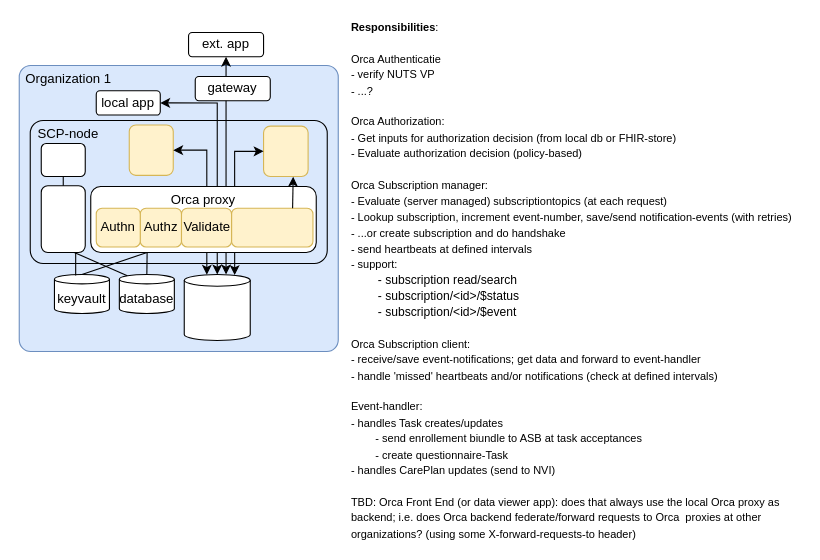
Image size: 820x560. Some labels were removed from this diagram. The box of each missing label's shape, as (x1, y1, x2, y2) in pixels:
EHR FHIR endpoint: (183, 273, 250, 340)
Nuts: (40, 185, 85, 252)
Nuts admin: (40, 142, 85, 177)
Orca Event handler: (262, 125, 308, 177)
Orca Front End: (128, 124, 173, 175)
Subscription mngr/client: (230, 207, 313, 247)
